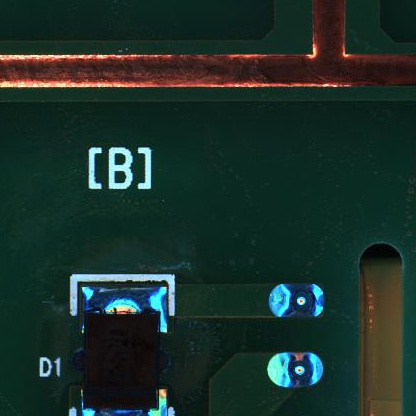spot: (265, 351, 327, 388), (267, 283, 325, 316)
